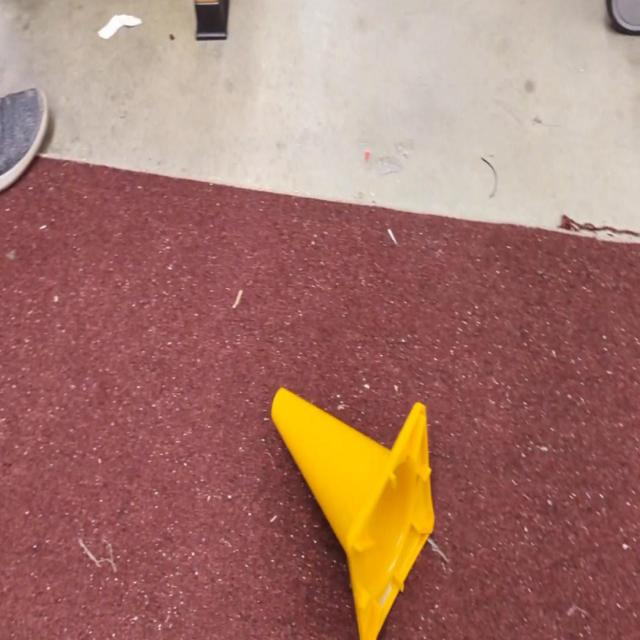frc_cone: (270, 386, 436, 640)
